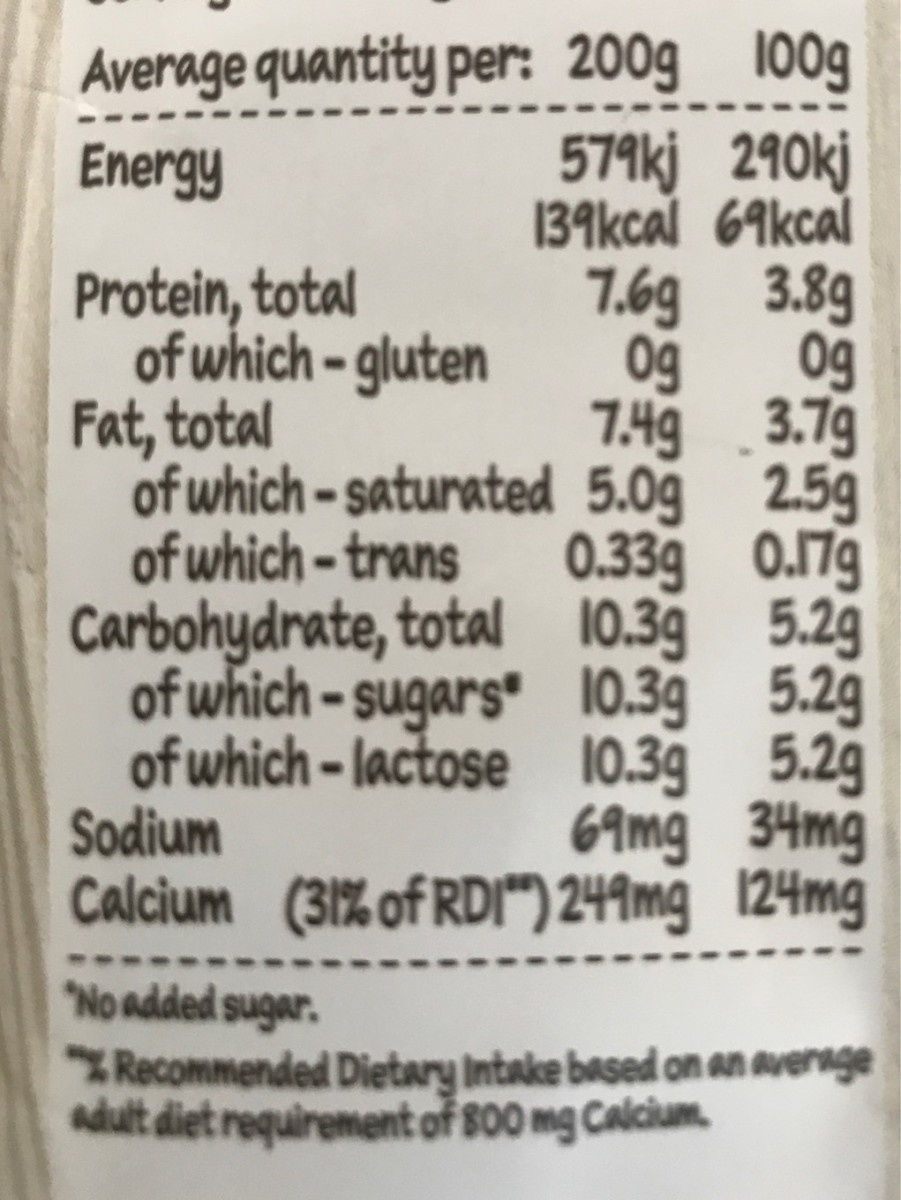column: (65, 29, 531, 937), (534, 32, 689, 935), (716, 30, 867, 930)
table: (57, 26, 881, 960)
